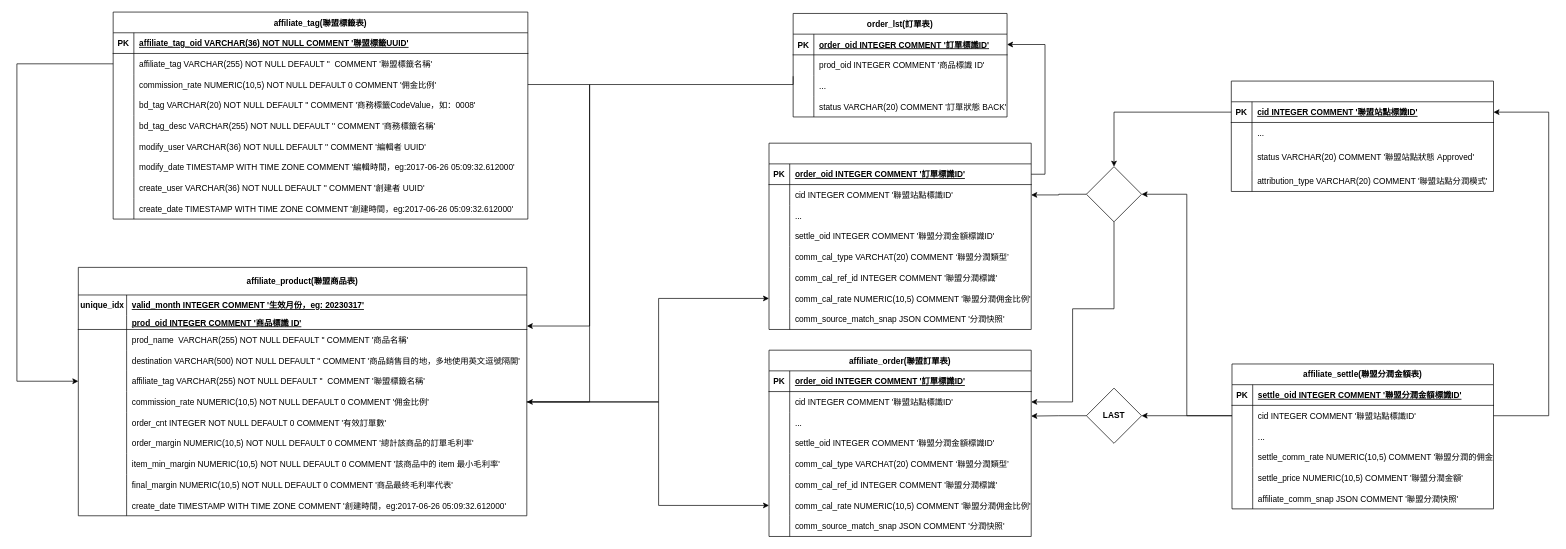
This 1566x549 diagram has some shape labels left out. The shapes that lost their labels are listed below. From the top down, each one's box as (x1, y1, x2, y2) in pixels, then its label:
(1231, 80, 1494, 191): affiliate_web(聯盟站點表)
(1086, 166, 1142, 222): DDA
(768, 142, 1031, 329): affiliate_attribution_order(聯盟訂單表)
